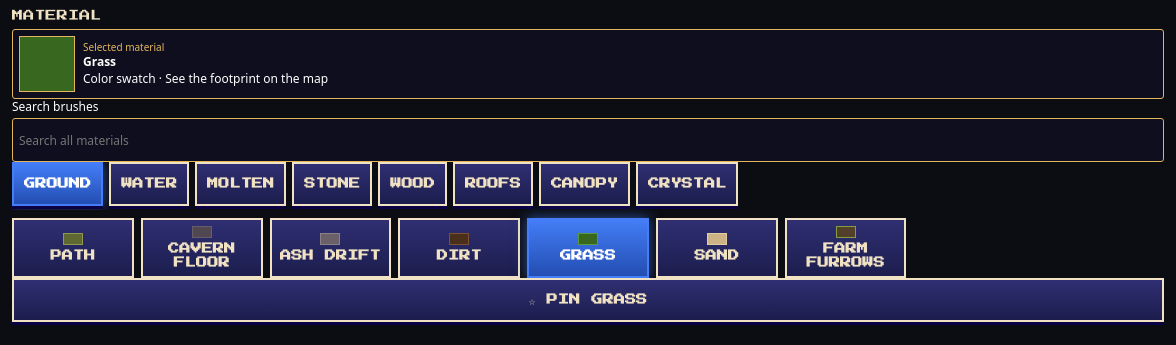
Test: material collection grammar › phone searches across material shelves and keeps the selected preview and pin target
The image size is (1176, 345).
Type "oak" into the search field labelled "Search brushes".
click(588, 140); type("oak")  # box [12,118,1164,162]
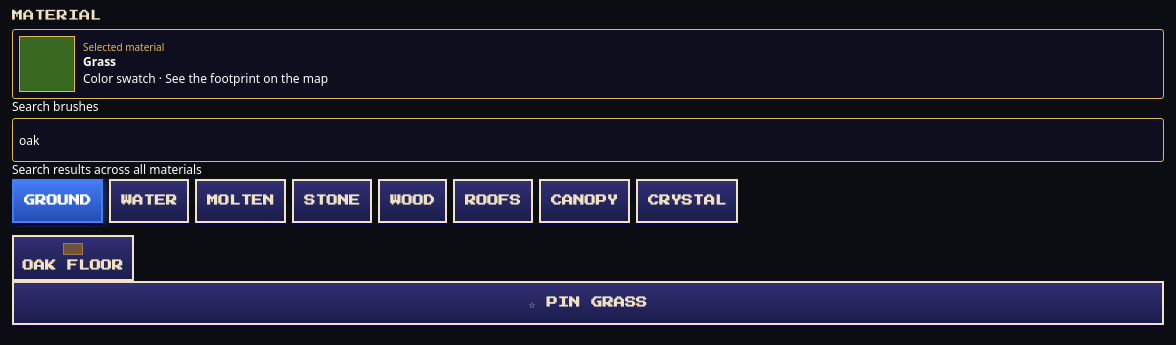
Expected: the text "Grass" is shown, [83,53,116,70]
Now the button "Oak Floor" is shown, box [12,235,134,281]
